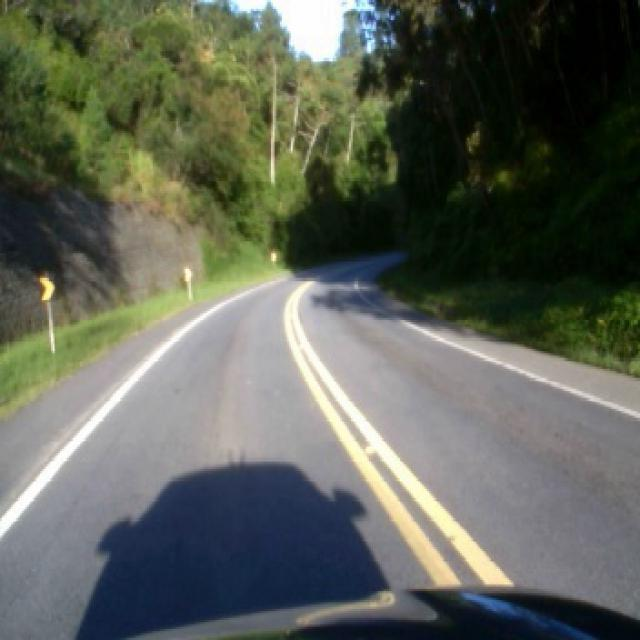Poth-hole: (367, 444, 378, 452)
